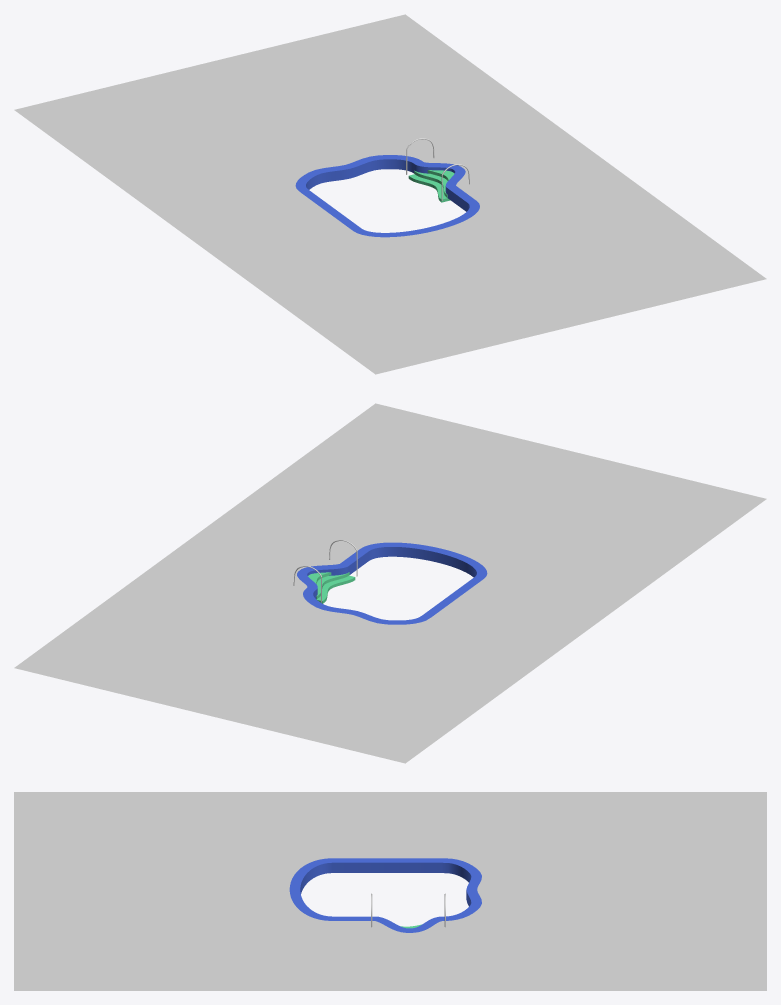
File: SwimmingPool.fbx
3 views of the same model, one above another, from view 1: azimuth 30°, elevation 25°; view 2: azimuth 150°, elevation 25°; view 3: azimuth 270°, elevation 25° (orthographic). The views are drawn at different scales.
Parts seen in each view (by area): view 1: Cube.007; view 2: Cube.007; view 3: Cube.007.
Part boxes in pixels (bbox=[...]): Cube.007: bbox=[14, 14, 766, 374]; Cube.007: bbox=[14, 403, 766, 763]; Cube.007: bbox=[14, 792, 766, 990].
Bounding box in the file's own units: 75 × 6.58 × 120.
